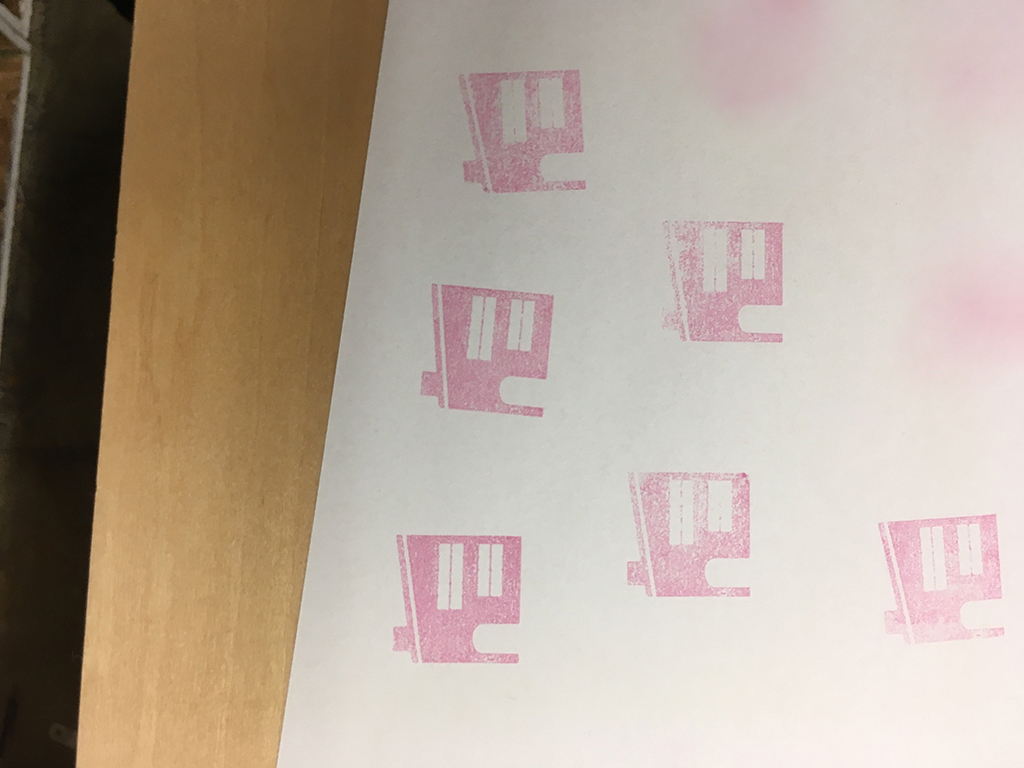house: (857, 500, 1015, 655), (415, 272, 563, 429), (644, 212, 796, 351), (619, 462, 764, 606), (390, 529, 531, 676), (452, 66, 600, 202)
